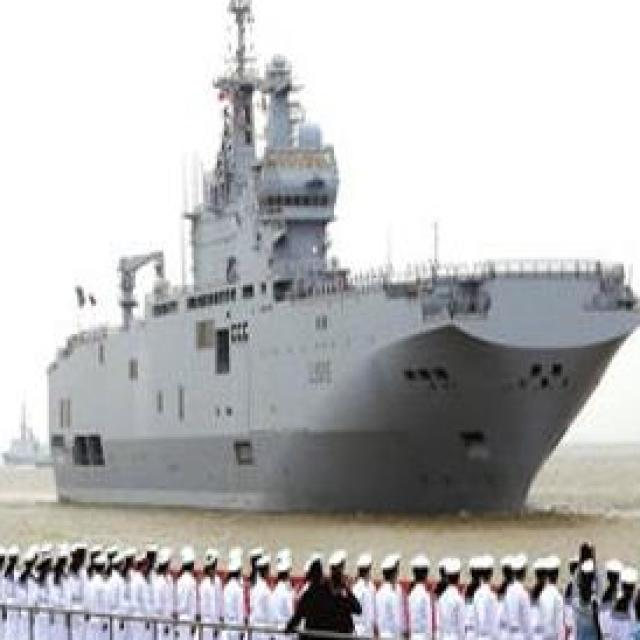navalvessels: (38, 41, 618, 503)
